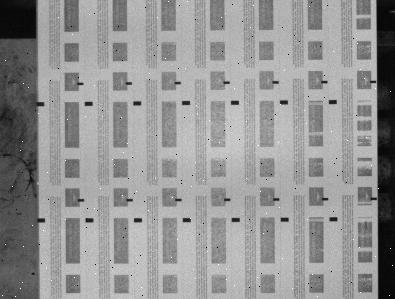backgroundclutter: (37, 182, 40, 186), (32, 273, 35, 276)
qblock: (133, 101, 142, 106), (183, 218, 191, 223), (232, 218, 240, 223), (281, 100, 289, 105), (37, 102, 44, 107), (37, 219, 45, 223), (134, 219, 142, 223), (86, 219, 94, 223), (330, 218, 338, 222), (281, 218, 289, 222), (182, 101, 190, 105), (231, 101, 239, 105), (85, 102, 93, 106), (329, 100, 337, 104)
smallqblock: (78, 199, 85, 202), (175, 199, 182, 202), (371, 198, 378, 201), (77, 82, 84, 85), (224, 81, 231, 84), (175, 82, 182, 85), (127, 199, 133, 202), (274, 198, 280, 201), (225, 199, 231, 202), (323, 198, 329, 201), (273, 81, 279, 84), (126, 82, 132, 85), (371, 80, 377, 83), (322, 81, 328, 84)
